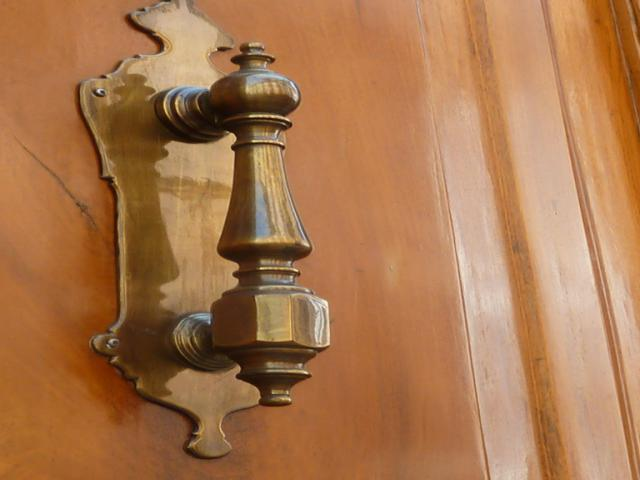Door-handle: (73, 0, 340, 463)
